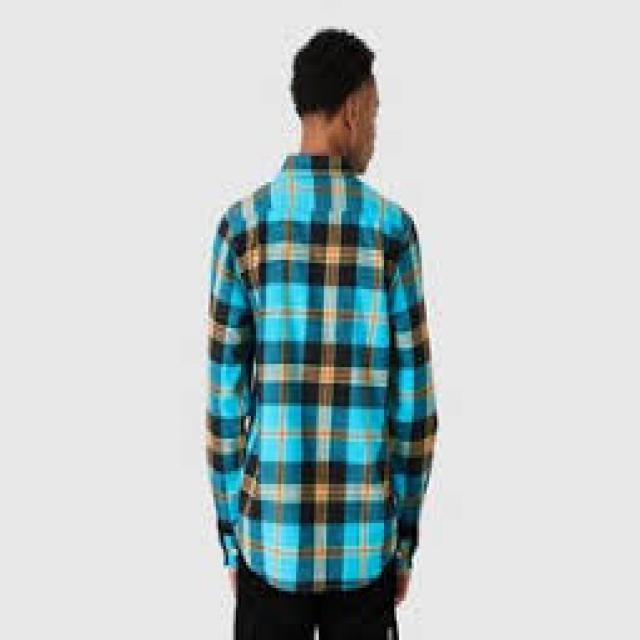plaid: (198, 145, 442, 596)
